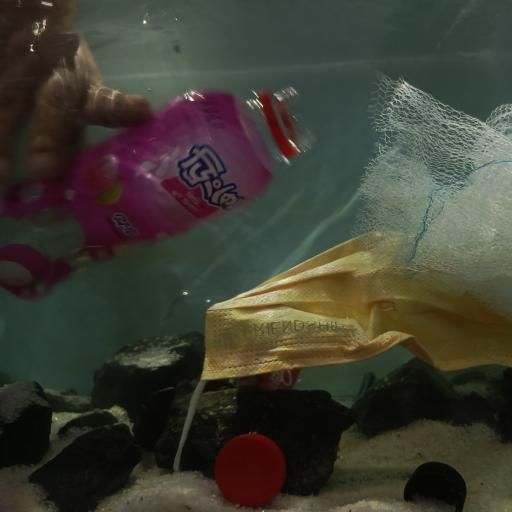bottle_cap: (214, 432, 285, 506), (402, 460, 467, 512)
mask: (188, 228, 512, 416)
net: (352, 68, 512, 329)
plastic_bottle: (1, 83, 313, 298), (160, 282, 374, 400)
